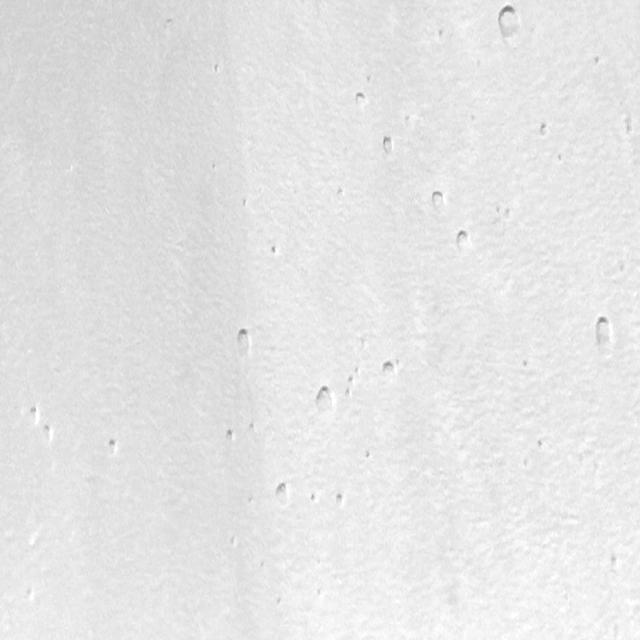pin holes: (494, 1, 524, 43), (590, 312, 616, 350), (309, 384, 334, 418), (232, 326, 256, 360), (426, 188, 448, 215), (273, 481, 293, 510), (379, 360, 403, 384), (453, 228, 474, 255), (380, 134, 399, 159), (605, 552, 624, 574), (354, 91, 372, 114), (622, 117, 638, 142), (25, 405, 42, 426), (107, 438, 123, 458), (42, 424, 57, 445), (334, 492, 349, 510), (23, 585, 38, 603), (538, 120, 552, 139), (224, 428, 239, 445), (503, 204, 517, 220), (335, 186, 348, 203), (536, 437, 551, 451), (210, 60, 223, 76), (228, 534, 240, 551), (268, 244, 282, 258), (591, 53, 604, 68), (363, 448, 376, 463), (436, 27, 448, 43), (239, 196, 251, 210), (519, 359, 531, 373), (245, 420, 257, 434), (308, 493, 320, 506), (316, 586, 322, 601), (276, 594, 282, 608), (354, 366, 360, 378), (249, 494, 254, 506), (348, 373, 353, 384), (346, 386, 350, 398), (316, 558, 322, 566), (260, 562, 266, 570)
